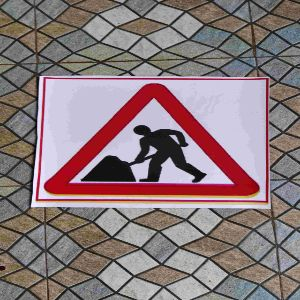men at work: (36, 76, 268, 204)
